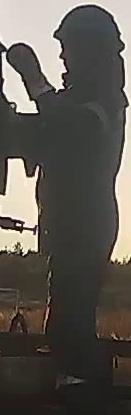gloves: (6, 39, 55, 102)
helmet: (52, 2, 127, 52)
vest: (33, 90, 130, 243)
